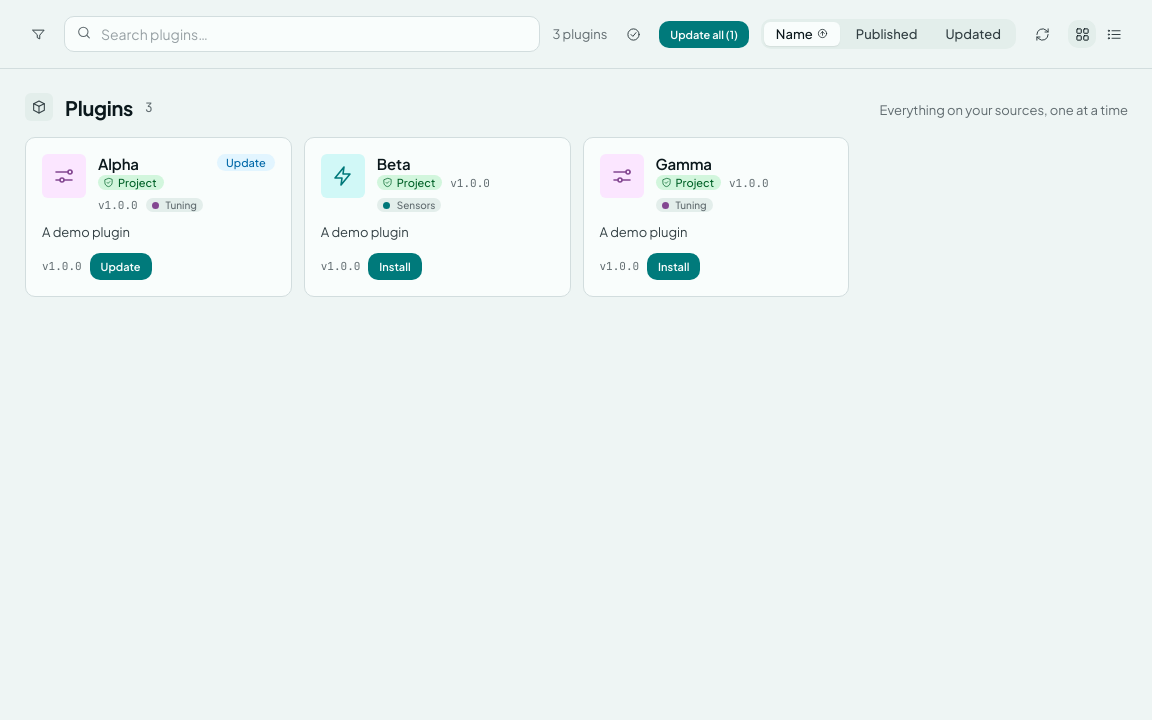
Test: PluginStore filtering › filters to installed plugins from live capabilities
Expected: the text "Alpha" is shown, top-left (98, 154), bottom-right (139, 173)
Click the button named "Filters": (38, 34) top-left (24, 20), bottom-right (52, 48)
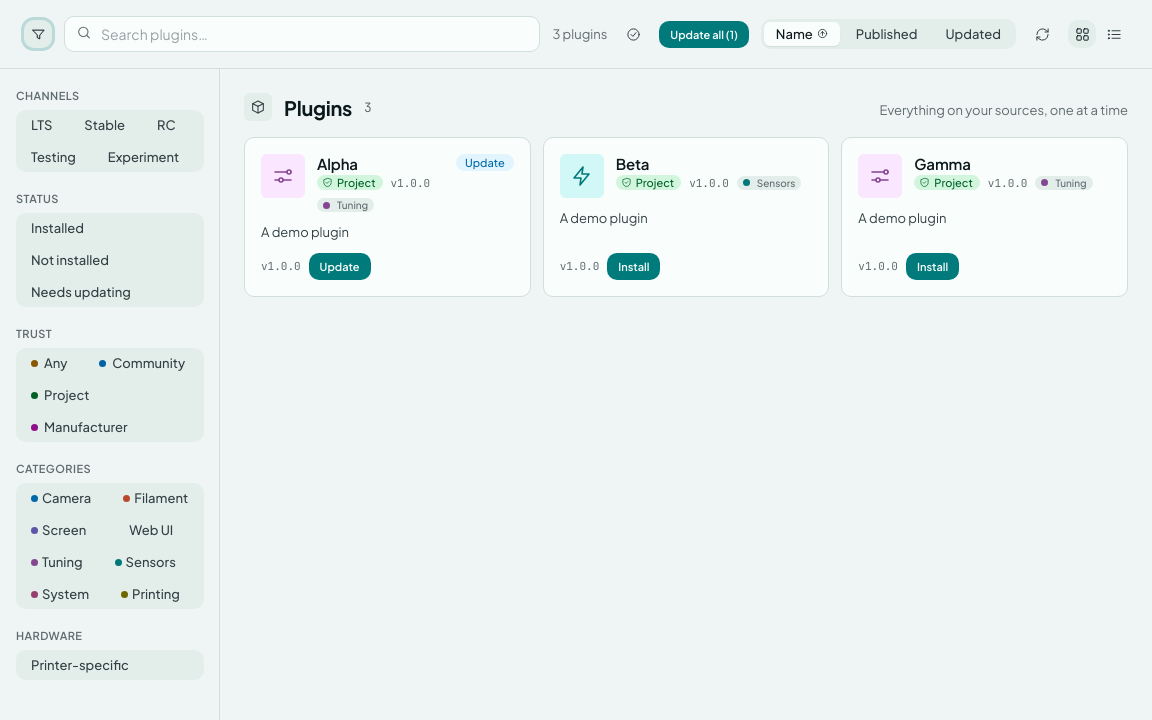
Click the button "Installed": (58, 228) top-left (19, 216), bottom-right (96, 240)
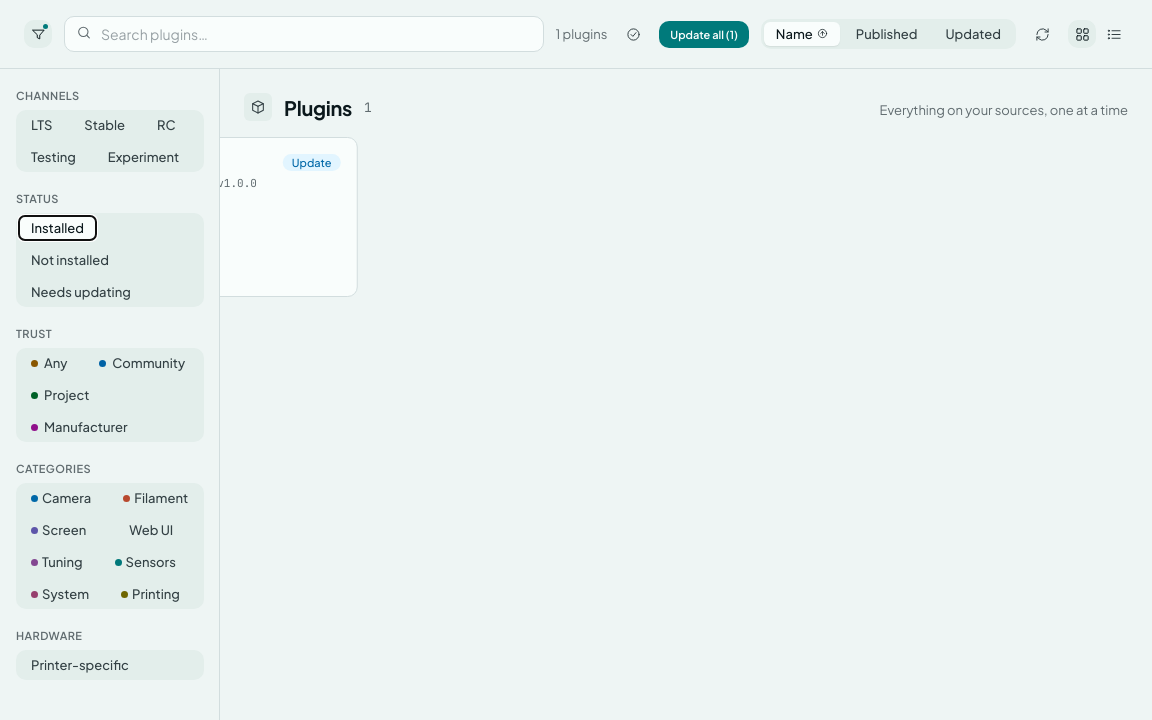
Result: the button "Beta" is gone
Result: the button "Gamma" is gone
